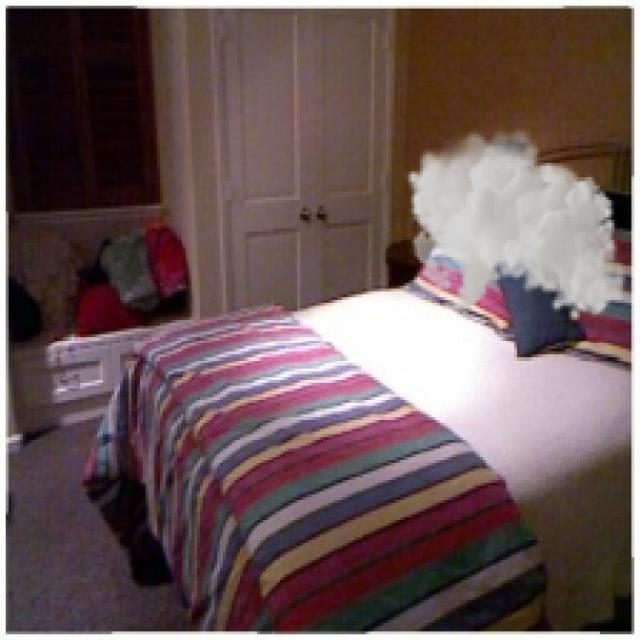Smoke: (406, 123, 626, 323)
